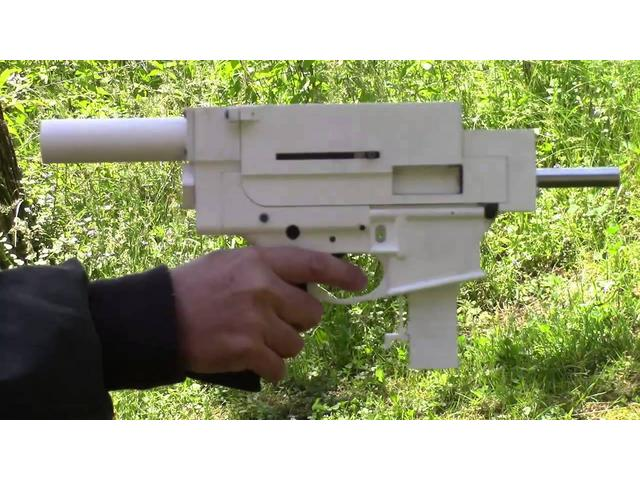pistol: (40, 94, 607, 386)
